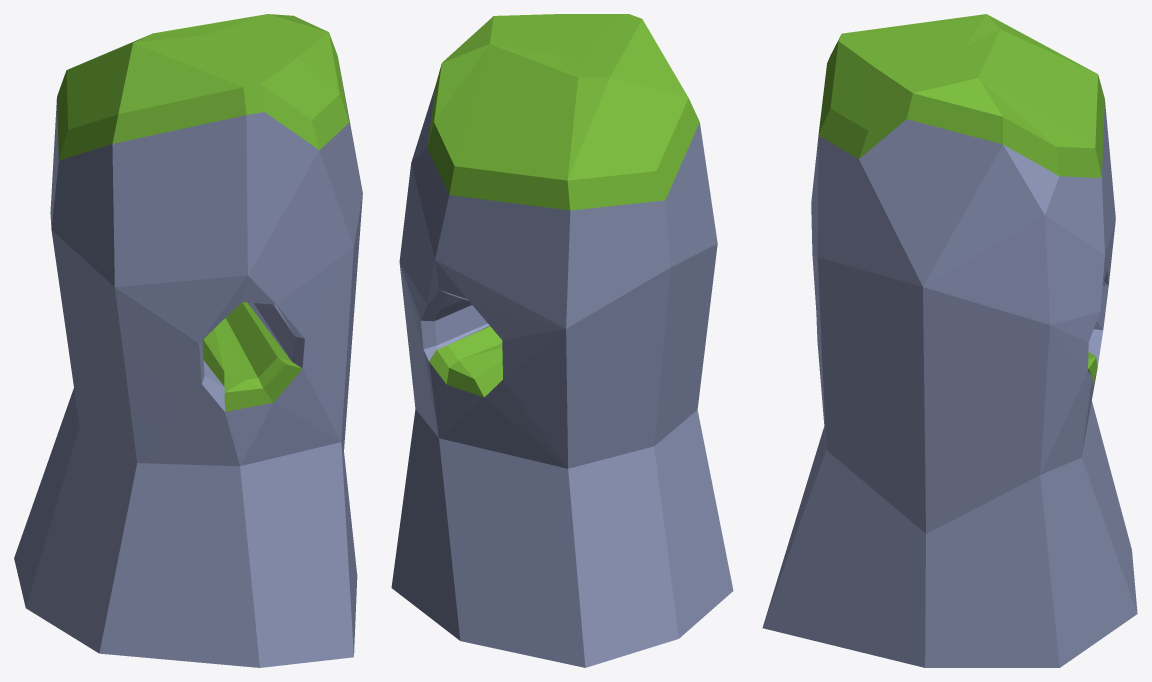
Rendered from Rock_1_1.fbx.
3 renders of one model, left to right at view 1: azimuth 30°, elevation 25°; view 2: azimuth 150°, elevation 25°; view 3: azimuth 270°, elevation 25°, orthographic. The views are drawn at different scales.
Parts seen in each view (by area): view 1: Rock_1_1; view 2: Rock_1_1; view 3: Rock_1_1.
Boxes of the visible parts, x1,y1,x2,y2 form: Rock_1_1: (14, 14, 362, 667); Rock_1_1: (391, 14, 733, 667); Rock_1_1: (762, 14, 1137, 667).
Size of the model in its own units: 1.68 by 3.12 by 1.89.
